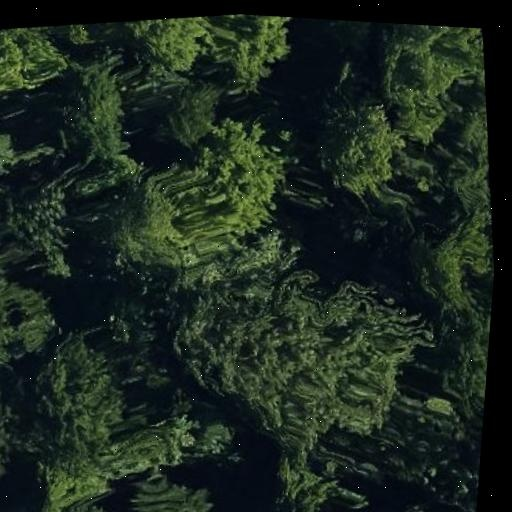tree-top: (154, 241, 434, 472), (118, 113, 287, 265), (8, 311, 144, 475), (359, 22, 495, 145), (52, 40, 155, 173), (308, 88, 406, 206), (396, 204, 499, 309), (0, 159, 84, 286), (420, 300, 492, 429), (219, 13, 311, 98), (0, 259, 69, 371), (0, 21, 76, 113), (256, 449, 363, 512), (127, 12, 216, 86), (161, 68, 233, 153), (0, 475, 130, 512), (122, 468, 221, 512), (435, 137, 495, 208), (0, 366, 32, 490), (0, 100, 24, 198)
